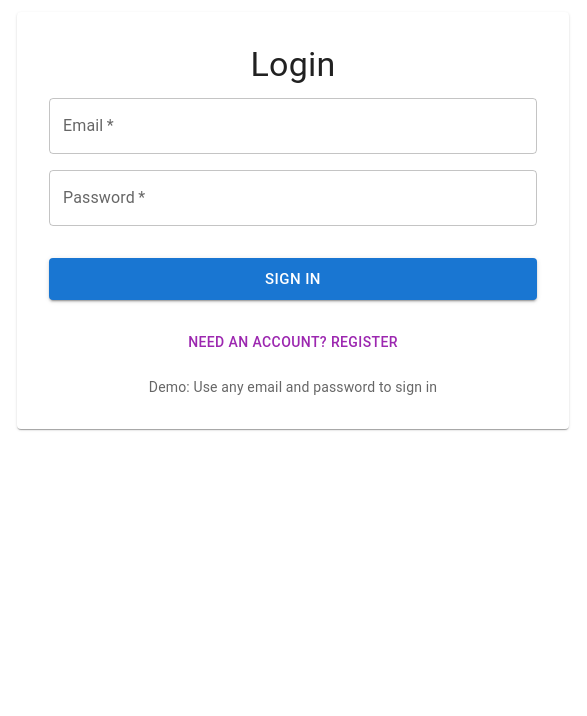
Test: Login Page › should switch to register mode when register button is clicked
The width and height of the screenshot is (587, 716).
Click the button "Need an account? Register": [293, 342] box [49,324,537,361]
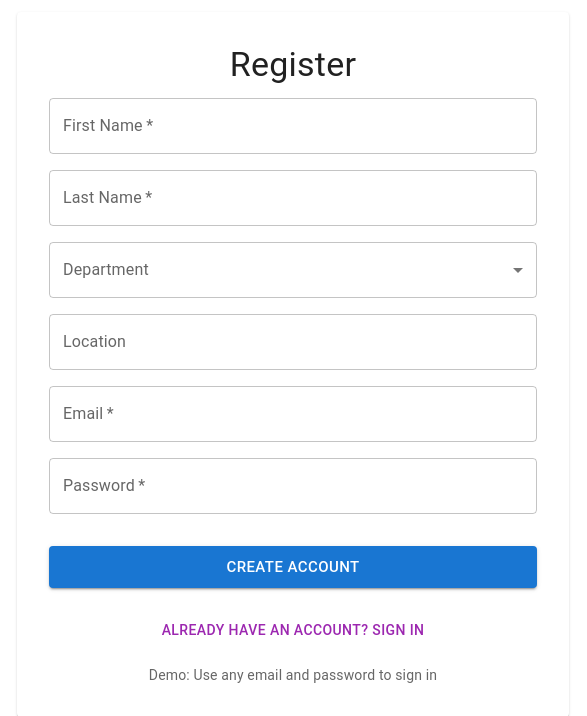
Expected: the heading "Register" is shown, [230,44,356,84]
Expected: the field labelled "First Name *" is shown, [49,98,537,154]
Expected: the field labelled "Last Name *" is shown, [49,170,537,226]
